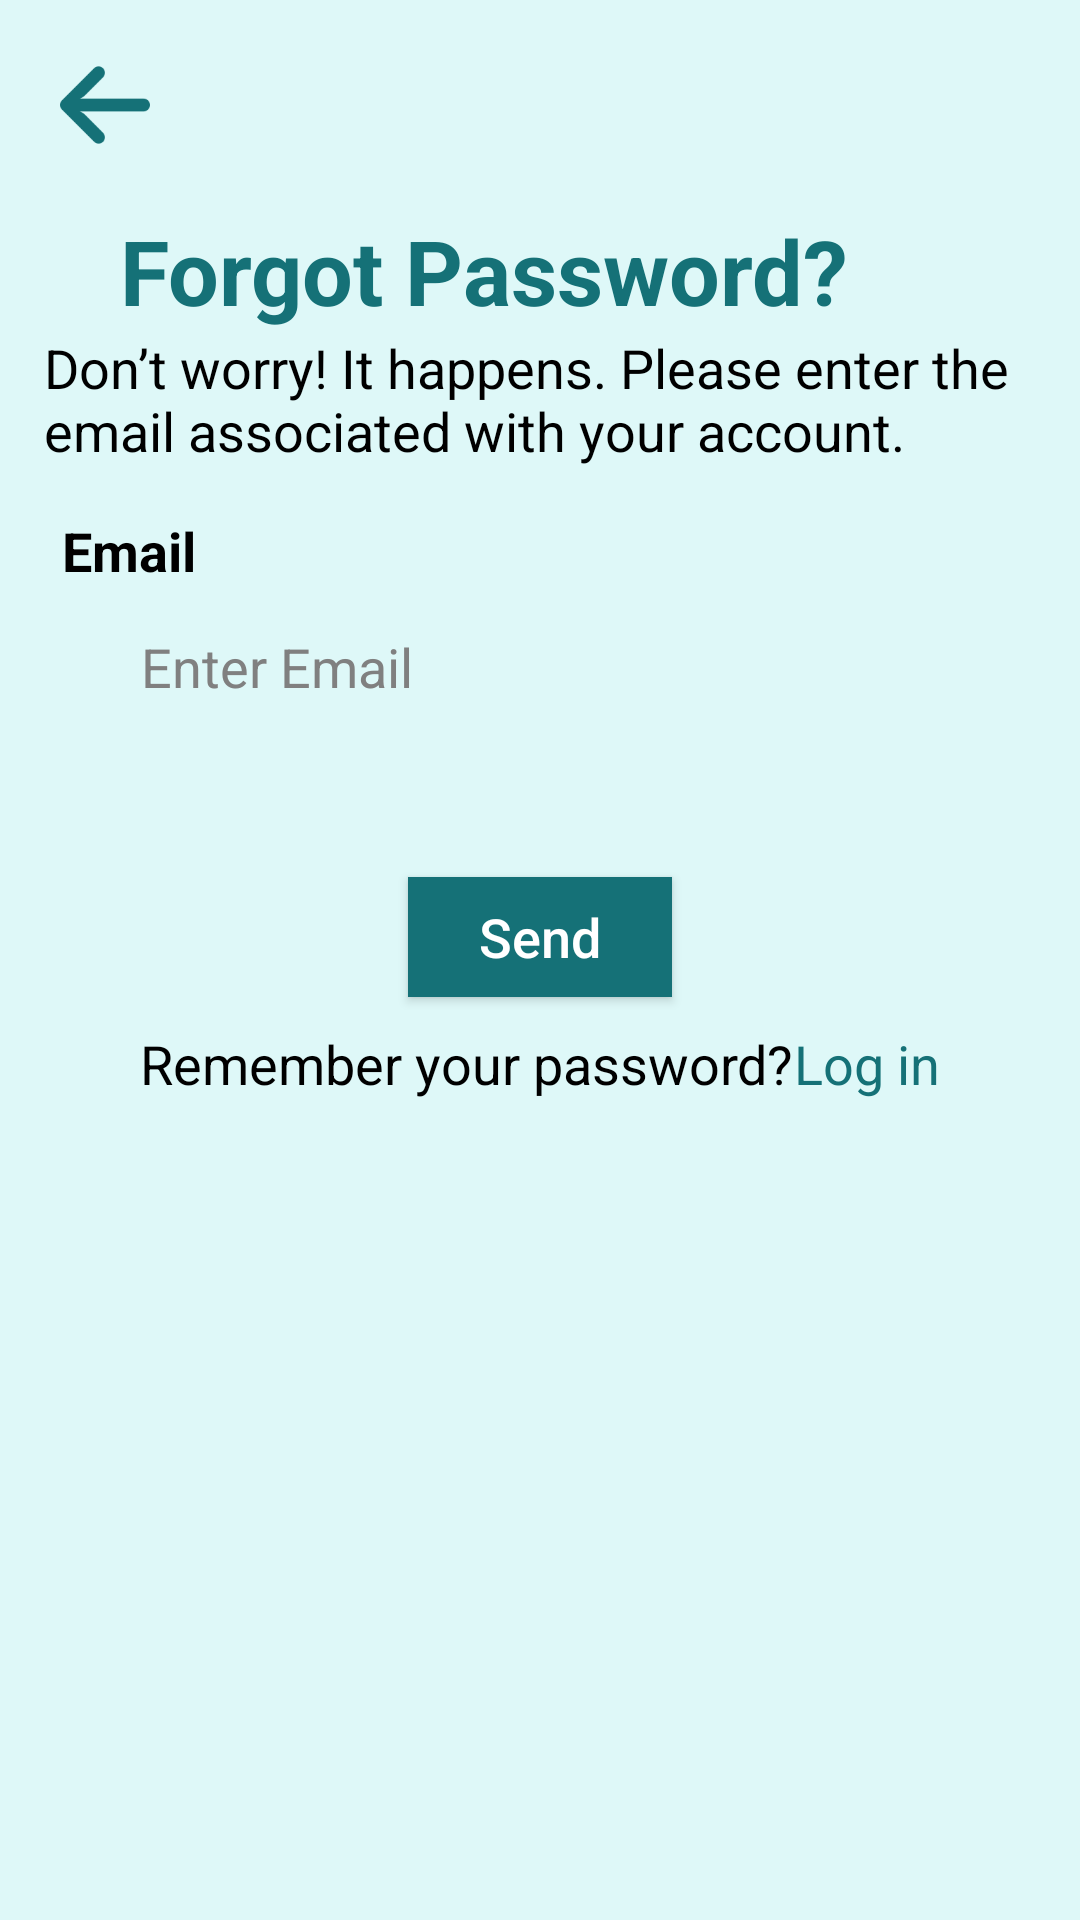

Icons on this 1080x1920 Android screen, each with its box as bbox=[x1, y1, x2, y2]:
arrow: bbox=[60, 66, 150, 144]
